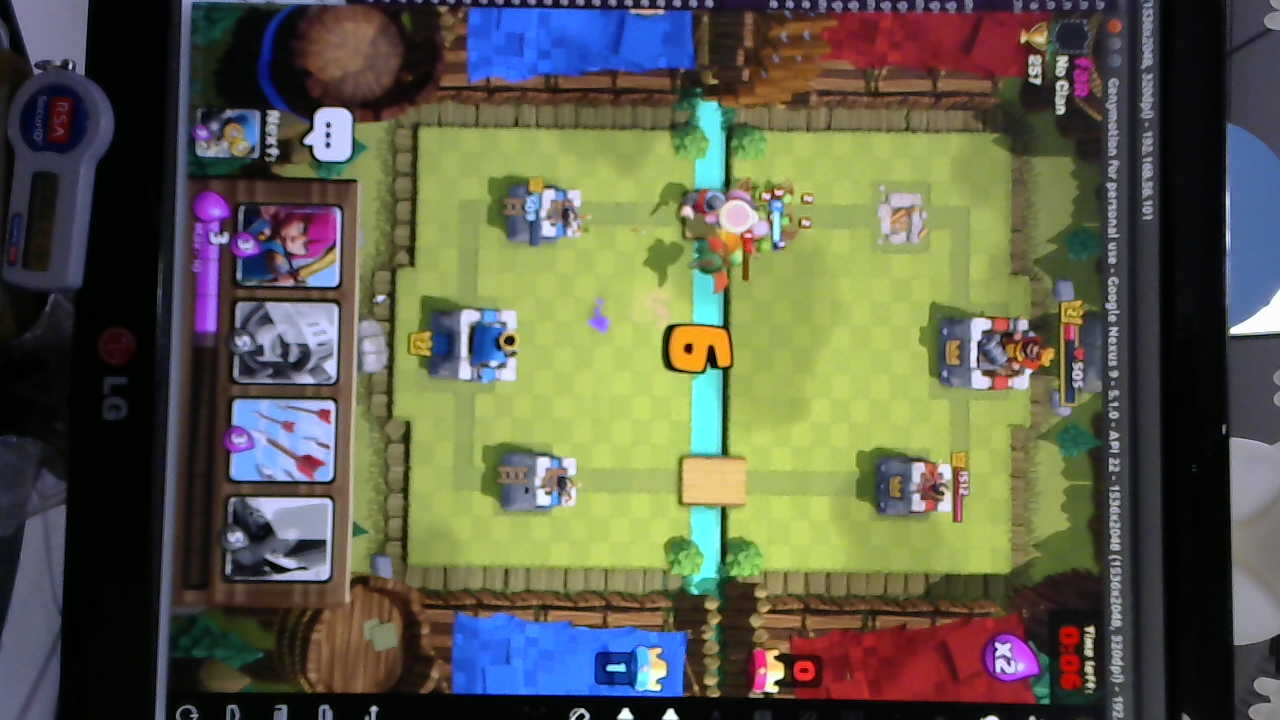arena: (507, 180, 586, 247), (501, 449, 580, 515)
darena: (870, 182, 931, 252)
dragon: (689, 232, 744, 291)
earena: (881, 454, 957, 522)
eking: (934, 307, 1042, 396)
king: (430, 303, 525, 385)
knight: (672, 186, 735, 227)
speargoblins: (744, 177, 810, 246)
